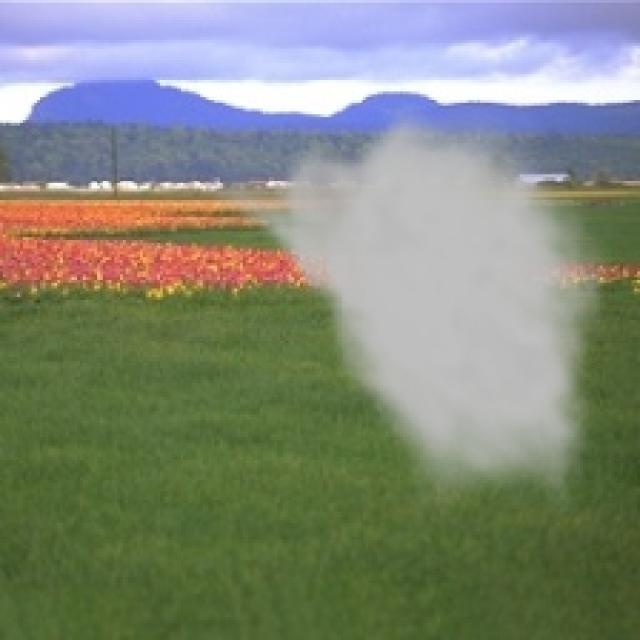Smoke: (199, 97, 612, 517)
